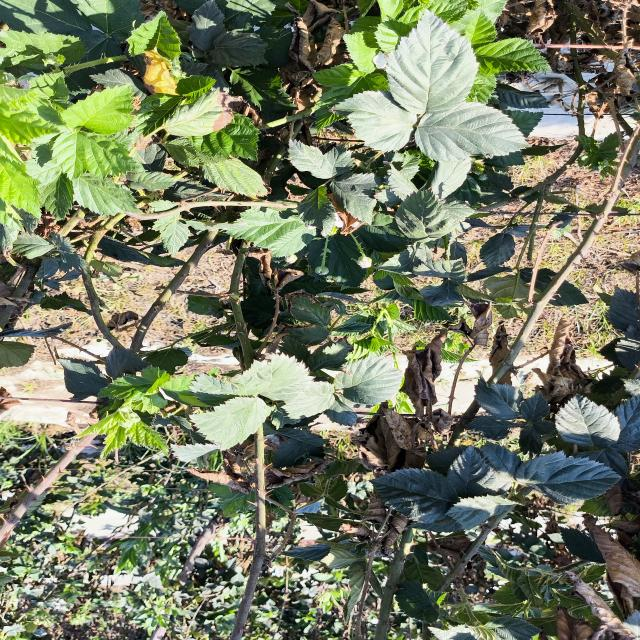boton: (357, 256, 373, 269), (315, 265, 328, 275), (285, 254, 297, 264)
